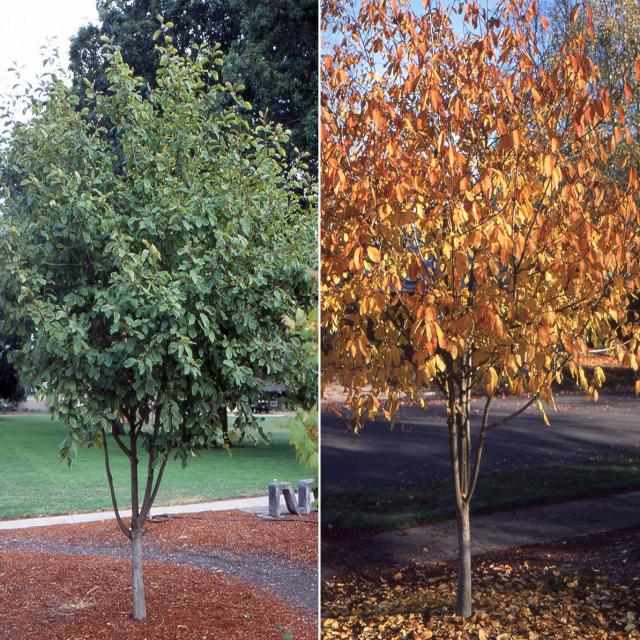Frangula purshiana: (321, 1, 638, 612), (4, 29, 310, 620)
